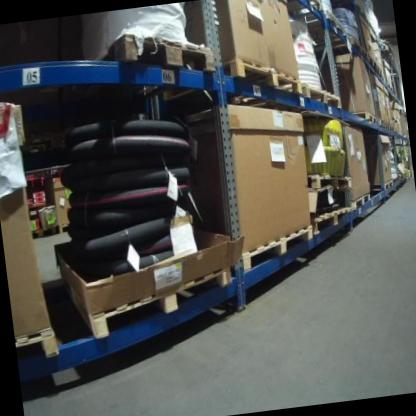pallet: (62, 261, 241, 344), (97, 22, 217, 86), (219, 49, 303, 106), (239, 226, 316, 277), (13, 322, 62, 369), (299, 75, 343, 114), (310, 204, 355, 239), (305, 167, 351, 193), (288, 0, 325, 18), (349, 108, 378, 127), (350, 192, 372, 209), (28, 226, 58, 237), (368, 179, 393, 192)
small_load_carrier: (32, 194, 47, 205), (31, 217, 42, 229), (30, 189, 46, 196), (26, 199, 34, 208)
